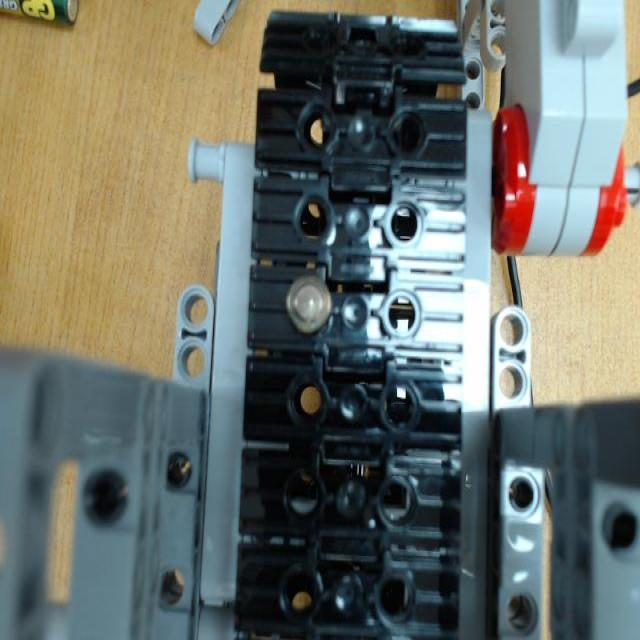COIN: (275, 270, 332, 329)
